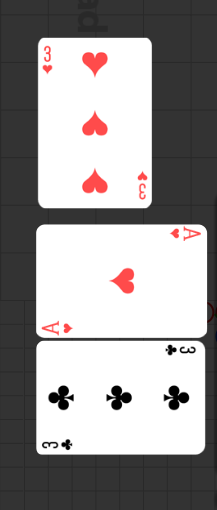3C: (41, 437, 76, 451)
3H: (43, 43, 55, 75)
AH: (41, 318, 76, 335)
